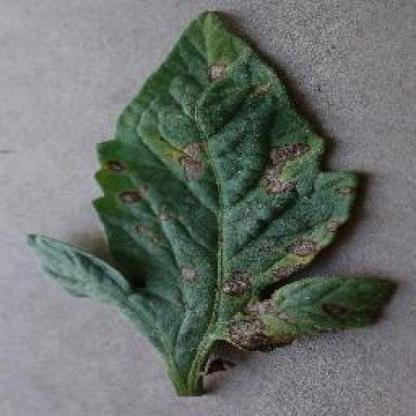Tomato_Blight: (26, 11, 396, 376)
